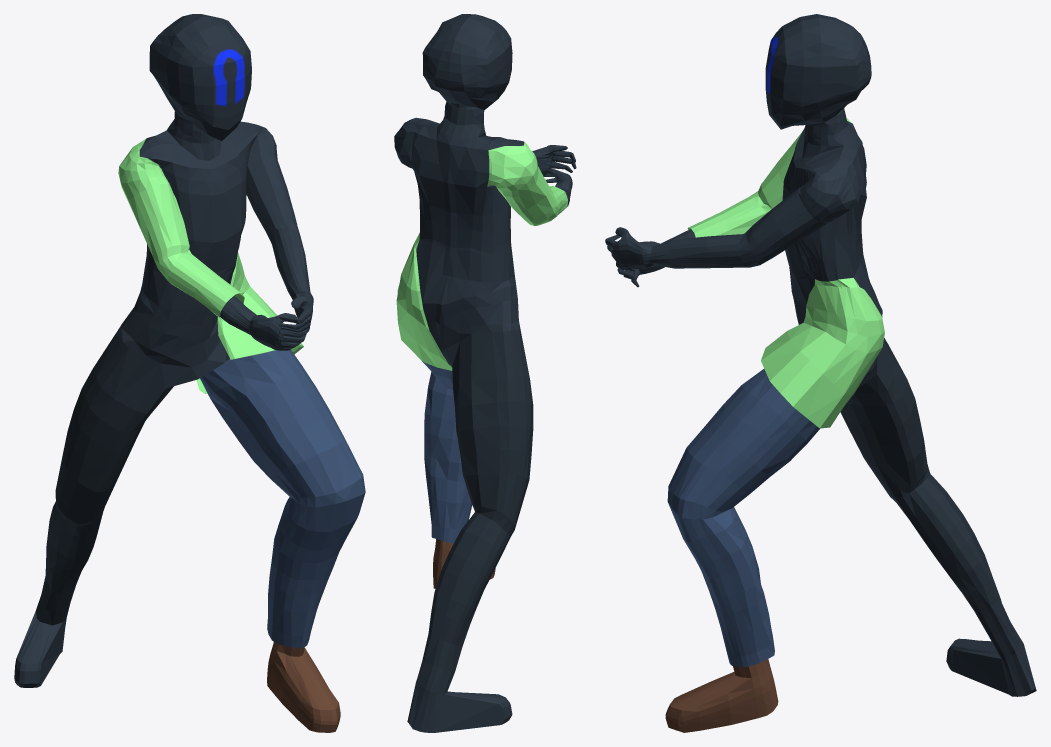
File: Mar_WL_000006.obj
3 views of the same model, side by side, from view 1: azimuth 30°, elevation 25°; view 2: azimuth 150°, elevation 25°; view 3: azimuth 270°, elevation 25° (orthographic). The views are drawn at different scales.
Parts seen in each view (by area): view 1: Cube.000_Cube.001; view 2: Cube.000_Cube.001; view 3: Cube.000_Cube.001.
Part boxes in pixels (x1,y1,x2,y2): Cube.000_Cube.001: (14,14,365,732); Cube.000_Cube.001: (394,14,576,732); Cube.000_Cube.001: (605,14,1036,732).
Bounding box in the file's own units: 1.19 × 3.71 × 2.07.
